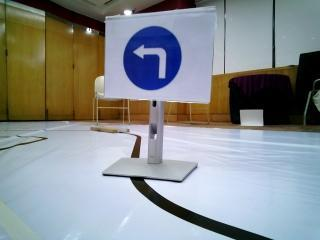left: (107, 20, 205, 98)
